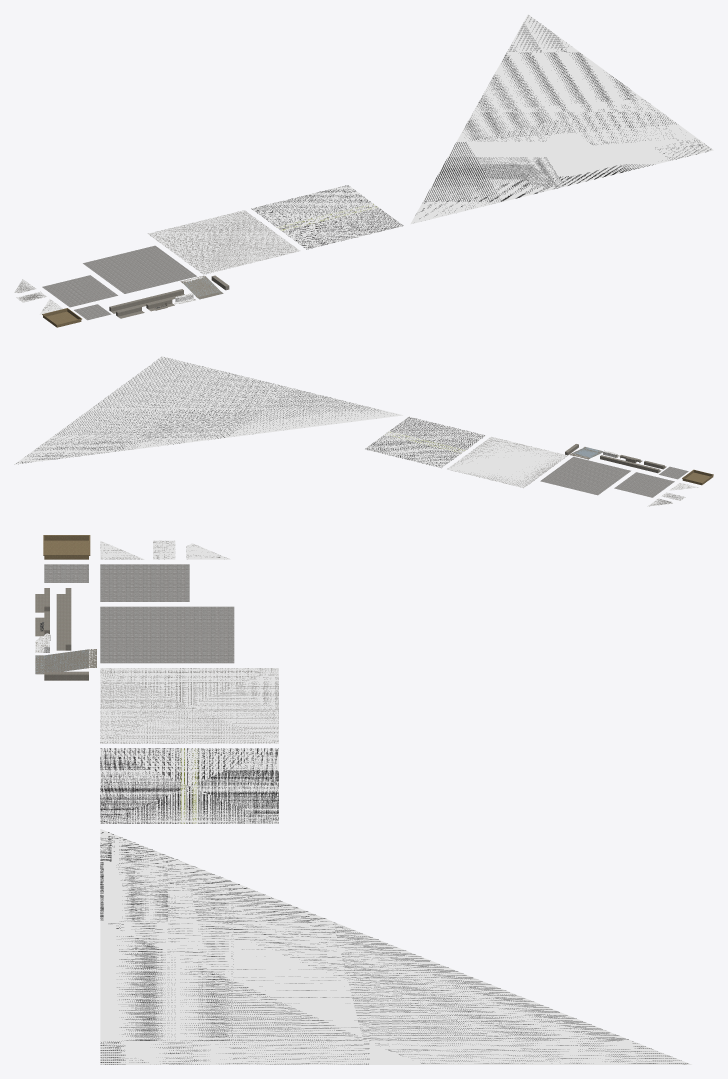
File: StreetElements.fbx
The picture shows the model from 3 angles, top to bottom: view 1: azimuth 30°, elevation 25°; view 2: azimuth 150°, elevation 25°; view 3: azimuth 270°, elevation 25°; orthographic projection. The views are drawn at different scales.
Visible parts, largest first — view 1: Model, Sidewalk4x4_1, Road4x4_1, Sidewalk3x3_1, Sidewalk2x2_1, SidewalkSlope1, SidewalkBorder1x3_1, TreePot1; view 2: Model, Sidewalk4x4_1, Road4x4_1, Sidewalk3x3_1, Sidewalk2x2_1, TreePot1, SidewalkBorder1x3_1; view 3: Model, Sidewalk4x4_1, Road4x4_1, Sidewalk3x3_1, Sidewalk2x2_1, SidewalkSlope1, TreePot1, SidewalkBorder1x3_1, SidewalkTile1.
Part boxes in pixels (x1,y1,x2,y2): Model: [410, 14, 713, 224]; Sidewalk4x4_1: [147, 210, 300, 274]; Road4x4_1: [251, 185, 403, 249]; Sidewalk3x3_1: [83, 245, 196, 293]; Sidewalk2x2_1: [42, 275, 117, 307]; SidewalkSlope1: [180, 275, 223, 299]; SidewalkBorder1x3_1: [109, 289, 184, 313]; TreePot1: [42, 308, 81, 327]; Model: [14, 356, 402, 464]; Sidewalk4x4_1: [447, 436, 568, 488]; Road4x4_1: [364, 416, 485, 467]; Sidewalk3x3_1: [540, 456, 630, 495]; Sidewalk2x2_1: [614, 472, 674, 497]; TreePot1: [682, 469, 713, 485]; SidewalkBorder1x3_1: [600, 455, 661, 473]; Model: [100, 829, 691, 1064]; Sidewalk4x4_1: [100, 668, 278, 743]; Road4x4_1: [100, 748, 278, 823]; Sidewalk3x3_1: [100, 606, 234, 663]; Sidewalk2x2_1: [100, 564, 189, 601]; SidewalkSlope1: [35, 649, 96, 674]; TreePot1: [43, 535, 90, 559]; SidewalkBorder1x3_1: [56, 588, 71, 650]; SidewalkTile1: [44, 564, 88, 582].
Bounding box in the file's own units: 11110 × 140 × 5880.
